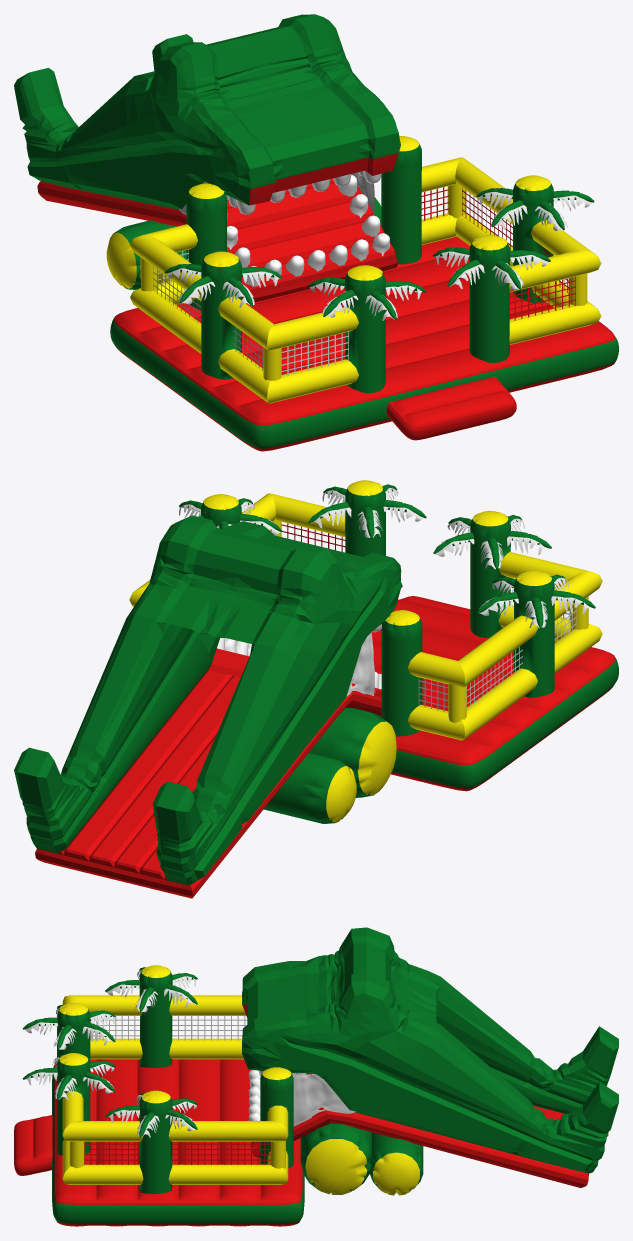
3 views of the same model, one above another, from view 1: azimuth 30°, elevation 25°; view 2: azimuth 150°, elevation 25°; view 3: azimuth 270°, elevation 25° (orthographic). The views are drawn at different scales.
Parts seen in each view (by area): view 1: ChamferCyl015, Box004, Box001, Box003, Cylinder022, ChamferCyl005, Plane006, Plane007, Line002, Line001, Line004, Line003; view 2: Box004, ChamferCyl015, Box003, Box001, ChamferCyl005, Plane007, Line003, Line001, Line004, Plane001, Cylinder022; view 3: Box004, ChamferCyl015, Box001, ChamferCyl005, Box003, Plane006, Plane002, Plane007, Line001, Line004, Line003, Line002 (+1 smaller).
Part boxes in pixels (bbox=[...]): ChamferCyl015: bbox=[130, 136, 601, 403]; Box004: bbox=[14, 14, 400, 209]; Box001: bbox=[110, 236, 618, 451]; Box003: bbox=[37, 178, 398, 304]; Cylinder022: bbox=[226, 170, 390, 286]; ChamferCyl005: bbox=[106, 197, 381, 289]; Plane006: bbox=[421, 187, 575, 320]; Plane007: bbox=[153, 249, 348, 377]; Line002: bbox=[477, 192, 591, 230]; Line001: bbox=[434, 251, 548, 290]; Line004: bbox=[167, 268, 281, 307]; Line003: bbox=[310, 282, 422, 320]; Box004: bbox=[14, 515, 402, 885]; ChamferCyl015: bbox=[129, 480, 602, 740]; Box003: bbox=[35, 648, 381, 898]; Box001: bbox=[371, 596, 618, 791]; ChamferCyl005: bbox=[263, 708, 396, 823]; Plane007: bbox=[418, 579, 576, 712]; Line003: bbox=[434, 518, 548, 569]; Line001: bbox=[310, 488, 424, 537]; Line004: bbox=[479, 577, 593, 628]; Plane001: bbox=[346, 632, 374, 696]; Cylinder022: bbox=[217, 624, 381, 689]; Box004: bbox=[242, 927, 618, 1173]; ChamferCyl015: bbox=[22, 965, 293, 1194]; Box001: bbox=[14, 1059, 304, 1226]; ChamferCyl005: bbox=[300, 1123, 423, 1195]; Box003: bbox=[252, 1073, 588, 1187]; Plane006: bbox=[84, 1141, 271, 1164]; Plane002: bbox=[291, 1073, 355, 1126]; Plane007: bbox=[90, 1016, 247, 1040]; Line001: bbox=[24, 1057, 114, 1100]; Line004: bbox=[106, 970, 196, 1012]; Line003: bbox=[24, 1008, 115, 1049]; Line002: bbox=[107, 1095, 196, 1137].
Size of the model in its own units: 315 by 180 by 483.
